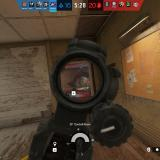Character: (79, 78, 84, 88)
Friend_label: (126, 70, 132, 76), (149, 65, 155, 71)
Head: (81, 79, 82, 80)
